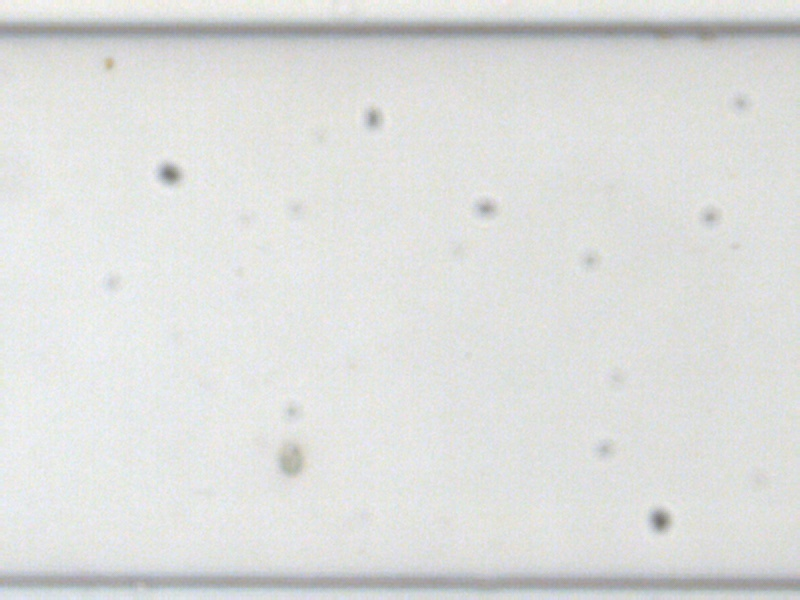Chlorella: (101, 54, 116, 69)
Dunaliella salina: (277, 439, 305, 477)
